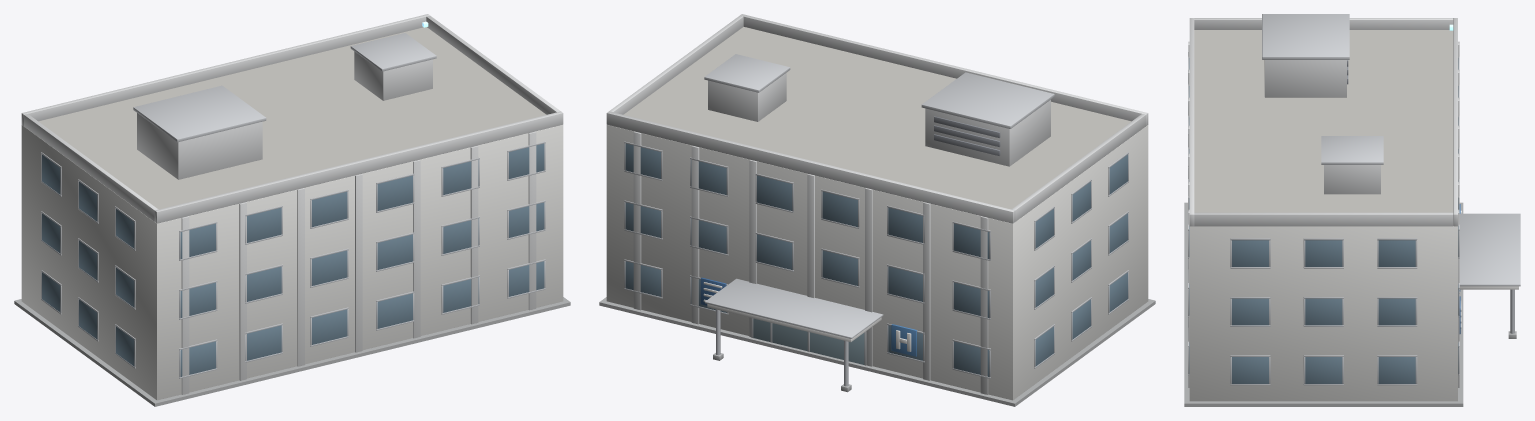
File: th49_klinik.glb
3 views of the same model, side by side, from view 1: azimuth 30°, elevation 25°; view 2: azimuth 150°, elevation 25°; view 3: azimuth 270°, elevation 25° (orthographic).
Parts seen in each view (by area): view 1: Cube.001, Cube.312, Cube.308, Cube.310, Cube.313, Cube.314, Cube, Cube.318, Cube.309, Cube.319, Cube.311, Cube.012 (+33 smaller); view 2: Cube.001, Cube.312, Cube.310, Cube.296, Cube.308, Cube.314, Cube, Cube.313, Cube.318, Cube.286, Cube.309, Cube.319 (+33 smaller); view 3: Cube.312, Cube.001, Cube.296, Cube.314, Cube.311, Cube.313, Cube, Cube.309, Cube.319, Cube.318, Cube.308, Cube.181 (+9 smaller).
Boxes of the visible parts, bbox=[...] form: Cube.001: bbox=[21, 125, 563, 400]; Cube.312: bbox=[38, 27, 546, 209]; Cube.308: bbox=[154, 111, 563, 223]; Cube.310: bbox=[21, 14, 429, 125]; Cube.313: bbox=[137, 113, 262, 179]; Cube.314: bbox=[133, 85, 266, 142]; Cube: bbox=[14, 297, 570, 406]; Cube.318: bbox=[354, 51, 432, 100]; Cube.309: bbox=[24, 114, 158, 221]; Cube.319: bbox=[350, 33, 436, 71]; Cube.311: bbox=[426, 15, 560, 114]; Cube.012: bbox=[470, 145, 478, 324]; Cube.001: bbox=[606, 125, 1148, 400]; Cube.312: bbox=[623, 27, 1131, 209]; Cube.310: bbox=[606, 111, 1015, 223]; Cube.296: bbox=[705, 278, 883, 338]; Cube.308: bbox=[740, 14, 1148, 125]; Cube.314: bbox=[921, 72, 1054, 128]; Cube: bbox=[599, 297, 1155, 406]; Cube.313: bbox=[925, 100, 1050, 166]; Cube.318: bbox=[708, 73, 786, 121]; Cube.286: bbox=[753, 318, 864, 364]; Cube.309: bbox=[1011, 114, 1145, 221]; Cube.319: bbox=[704, 54, 790, 92]; Cube.312: bbox=[1194, 30, 1453, 212]; Cube.001: bbox=[1189, 226, 1457, 401]; Cube.296: bbox=[1459, 213, 1520, 286]; Cube.314: bbox=[1262, 14, 1349, 59]; Cube.311: bbox=[1194, 212, 1453, 226]; Cube.313: bbox=[1264, 60, 1346, 97]; Cube: bbox=[1184, 202, 1463, 406]; Cube.309: bbox=[1194, 18, 1453, 29]; Cube.319: bbox=[1321, 136, 1383, 164]; Cube.318: bbox=[1324, 165, 1380, 194]; Cube.308: bbox=[1189, 18, 1194, 226]; Cube.181: bbox=[1305, 298, 1342, 325].
Size of the model in its own units: 26.6 by 13.67 by 18.8.
